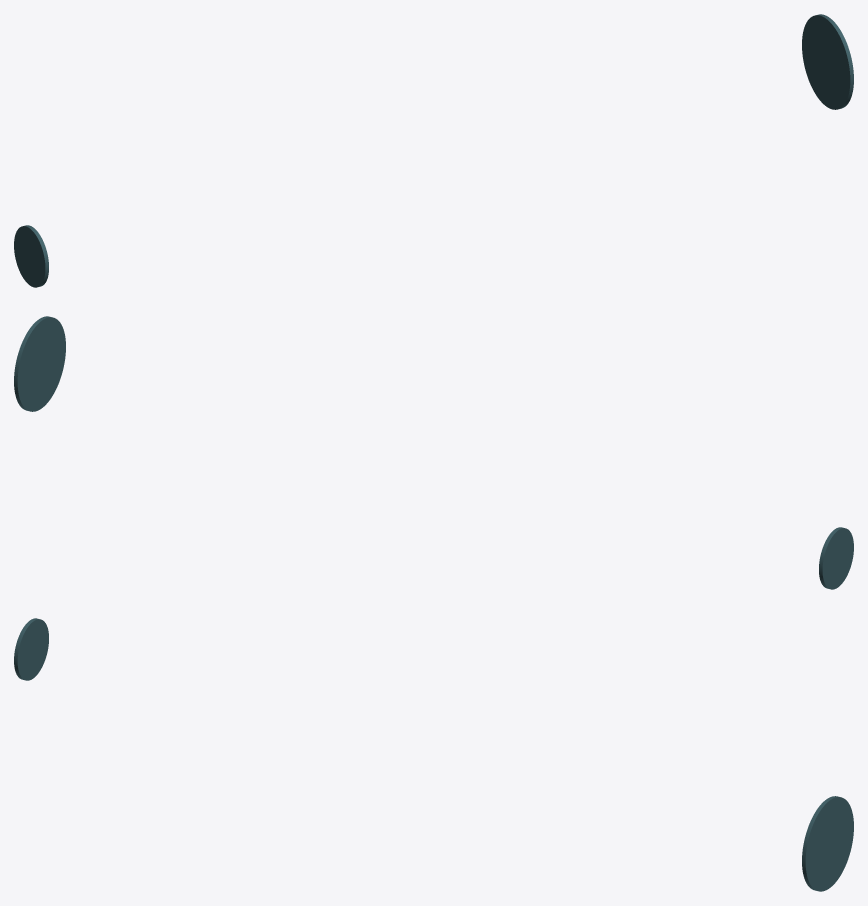
File: SM_ScopeLong_Glass.fbx
3 views of the same model, one above another, from view 1: azimuth 30°, elevation 25°; view 2: azimuth 150°, elevation 25°; view 3: azimuth 330°, elevation 25° (orthographic).
Parts seen in each view (by area): view 1: SM_ScopeLong_Glass; view 2: SM_ScopeLong_Glass; view 3: SM_ScopeLong_Glass.
Boxes of the visible parts, <box> form: SM_ScopeLong_Glass: <box>14,14,853,287</box>; SM_ScopeLong_Glass: <box>14,316,853,589</box>; SM_ScopeLong_Glass: <box>14,618,853,891</box>.
Size of the model in its own units: 0.0301 by 0.2879 by 0.0301.
